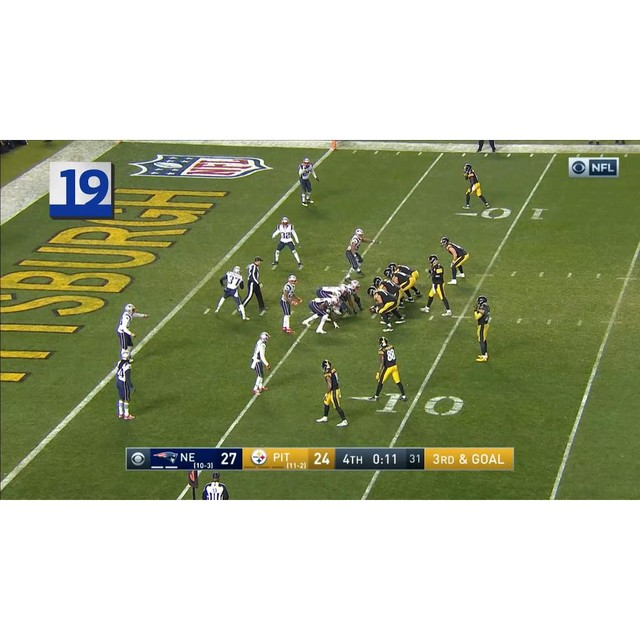american-football-player: (372, 337, 406, 402), (317, 359, 347, 426), (270, 214, 302, 269), (115, 302, 148, 355), (215, 266, 248, 319), (423, 254, 451, 315), (367, 286, 404, 332), (114, 350, 136, 420), (302, 294, 340, 333), (242, 256, 267, 314), (440, 234, 469, 283), (462, 162, 489, 209), (473, 295, 492, 361), (250, 332, 270, 394), (280, 275, 300, 334), (346, 228, 368, 278), (298, 156, 319, 205), (339, 278, 362, 315)
referee: (243, 255, 268, 313)
